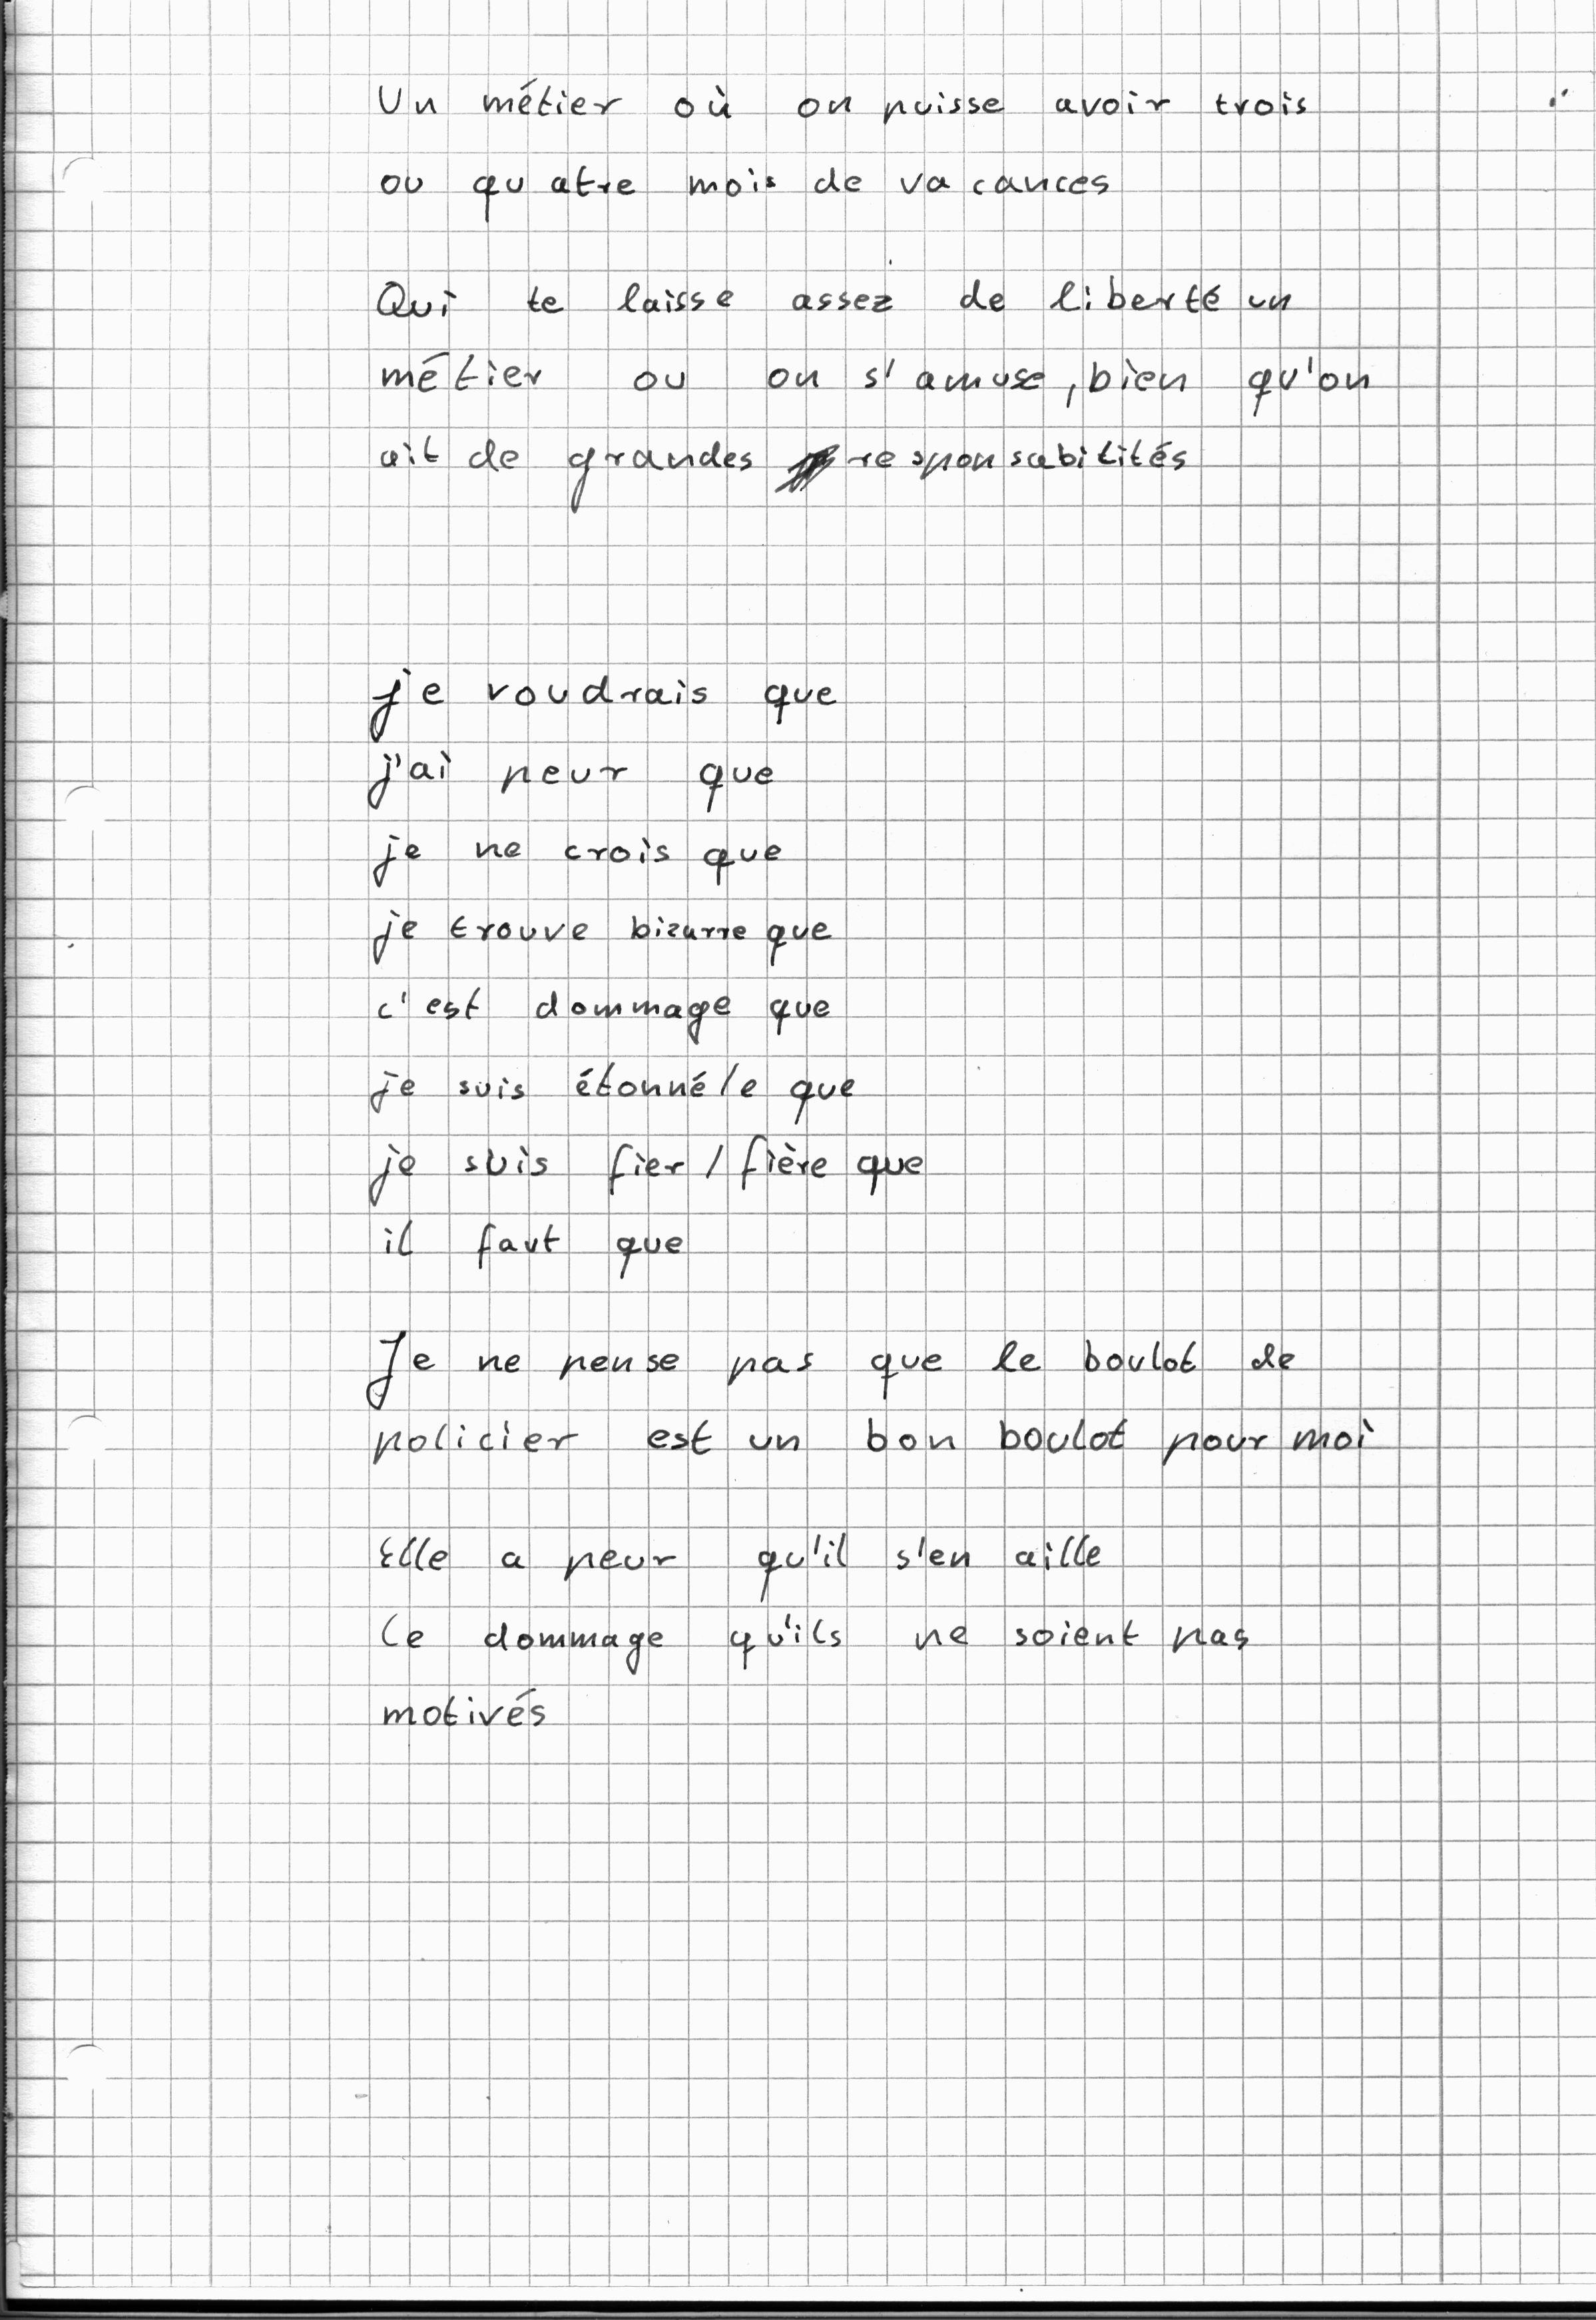word: (353, 655, 953, 1285), (358, 260, 1389, 527), (367, 1515, 1263, 1745), (362, 1309, 1375, 1491), (359, 52, 1320, 231)
